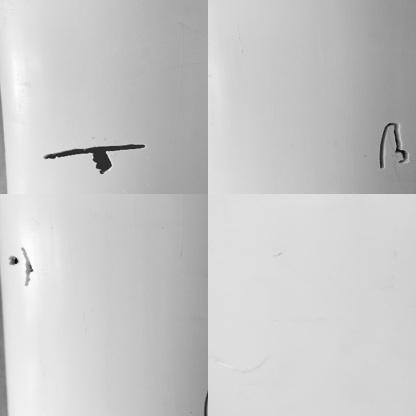fengxi: (373, 113, 410, 177), (42, 141, 148, 162), (21, 245, 35, 290)
kongdong: (88, 150, 114, 176), (5, 255, 18, 266)
